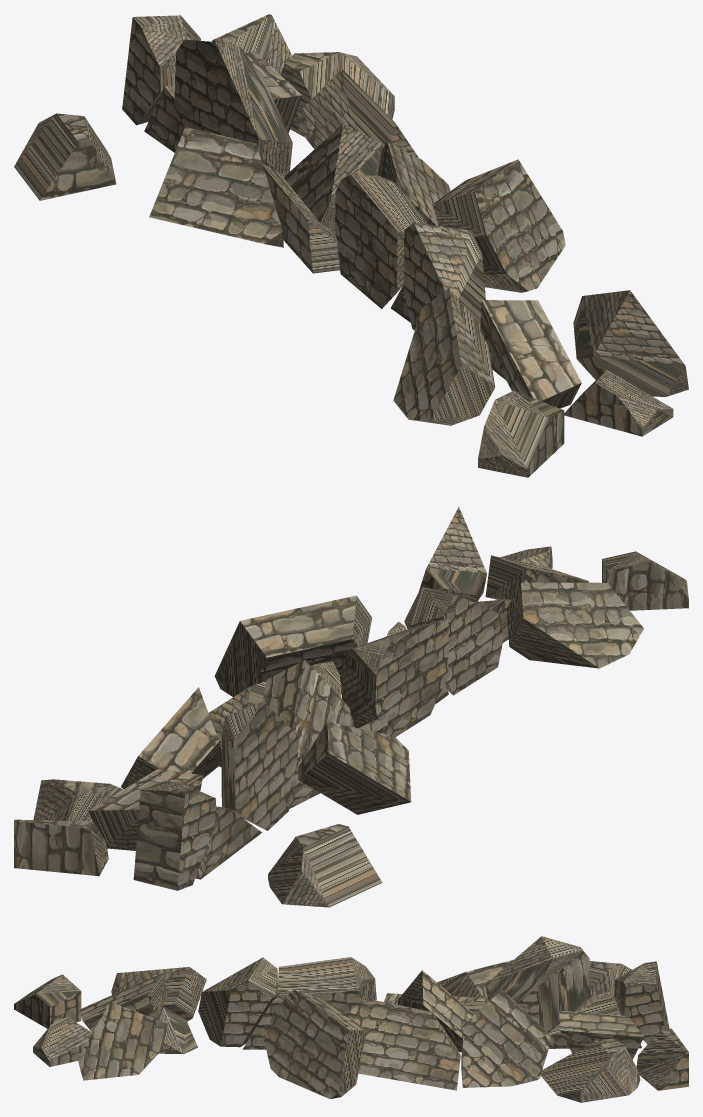
File: BreakWallLarge_000023.obj
3 views of the same model, one above another, from view 1: azimuth 30°, elevation 25°; view 2: azimuth 150°, elevation 25°; view 3: azimuth 270°, elevation 25° (orthographic). The views are drawn at different scales.
Visible parts, largest first — view 1: Cube.057_cell.017_Cube.057_cell.016, Cube.057_cell.018_Cube.057_cell.017, Cube.057_cell.021_Cube.057_cell.020, Cube.057_cell.014_Cube.057_cell.013, Cube.057_cell.013_Cube.057_cell.012, Cube.057_cell.007_Cube.057_cell.006, Cube.057_cell.011_Cube.057_cell.010, Cube.057_cell.010_Cube.057_cell.009, Cube.057_cell.001_Cube.057_cell.000, Cube.057_cell.015_Cube.057_cell.014, Cube.057_cell.003_Cube.057_cell.002, Cube.057_cell_Cube.057_cell.022 (+8 smaller); view 2: Cube.057_cell.021_Cube.057_cell.020, Cube.057_cell.013_Cube.057_cell.012, Cube.057_cell.018_Cube.057_cell.017, Cube.057_cell.014_Cube.057_cell.013, Cube.057_cell.017_Cube.057_cell.016, Cube.057_cell.003_Cube.057_cell.002, Cube.057_cell.001_Cube.057_cell.000, Cube.057_cell.010_Cube.057_cell.009, Cube.057_cell.019_Cube.057_cell.018, Cube.057_cell.020_Cube.057_cell.019, Cube.057_cell_Cube.057_cell.022, Cube.057_cell.015_Cube.057_cell.014 (+8 smaller); view 3: Cube.057_cell.018_Cube.057_cell.017, Cube.057_cell.004_Cube.057_cell.003, Cube.057_cell.020_Cube.057_cell.019, Cube.057_cell.014_Cube.057_cell.013, Cube.057_cell.007_Cube.057_cell.006, Cube.057_cell.010_Cube.057_cell.009, Cube.057_cell.012_Cube.057_cell.011, Cube.057_cell.013_Cube.057_cell.012, Cube.057_cell.003_Cube.057_cell.002, Cube.057_cell.016_Cube.057_cell.015, Cube.057_cell.019_Cube.057_cell.018, Cube.057_cell_Cube.057_cell.022 (+10 smaller).
Boxes of the visible parts, box(x1,y1,x2,y2) form: Cube.057_cell.017_Cube.057_cell.016: box(149, 127, 283, 247); Cube.057_cell.018_Cube.057_cell.017: box(432, 159, 565, 292); Cube.057_cell.021_Cube.057_cell.020: box(393, 288, 495, 425); Cube.057_cell.014_Cube.057_cell.013: box(174, 39, 292, 175); Cube.057_cell.013_Cube.057_cell.012: box(334, 174, 428, 308); Cube.057_cell.007_Cube.057_cell.006: box(573, 290, 688, 396); Cube.057_cell.011_Cube.057_cell.010: box(480, 300, 581, 408); Cube.057_cell.010_Cube.057_cell.009: box(404, 222, 485, 330); Cube.057_cell.001_Cube.057_cell.000: box(14, 113, 116, 200); Cube.057_cell.015_Cube.057_cell.014: box(478, 390, 564, 477); Cube.057_cell.003_Cube.057_cell.002: box(122, 15, 200, 125); Cube.057_cell_Cube.057_cell.022: box(284, 124, 382, 232); Cube.057_cell.021_Cube.057_cell.020: box(506, 582, 643, 668); Cube.057_cell.013_Cube.057_cell.012: box(342, 618, 448, 736); Cube.057_cell.018_Cube.057_cell.017: box(214, 595, 371, 696); Cube.057_cell.014_Cube.057_cell.013: box(221, 701, 298, 830); Cube.057_cell.017_Cube.057_cell.016: box(298, 721, 411, 814); Cube.057_cell.003_Cube.057_cell.002: box(133, 781, 216, 890); Cube.057_cell.001_Cube.057_cell.000: box(268, 824, 382, 907); Cube.057_cell.010_Cube.057_cell.009: box(404, 586, 503, 695); Cube.057_cell.019_Cube.057_cell.018: box(14, 819, 108, 876); Cube.057_cell.020_Cube.057_cell.019: box(121, 687, 221, 788); Cube.057_cell_Cube.057_cell.022: box(262, 659, 354, 756); Cube.057_cell.015_Cube.057_cell.014: box(602, 551, 688, 610); Cube.057_cell.018_Cube.057_cell.017: box(264, 989, 366, 1098); Cube.057_cell.004_Cube.057_cell.003: box(349, 1000, 460, 1090); Cube.057_cell.020_Cube.057_cell.019: box(461, 989, 551, 1087); Cube.057_cell.014_Cube.057_cell.013: box(485, 936, 590, 1031); Cube.057_cell.007_Cube.057_cell.006: box(77, 1002, 167, 1080); Cube.057_cell.010_Cube.057_cell.009: box(198, 957, 277, 1047); Cube.057_cell.012_Cube.057_cell.011: box(540, 1039, 640, 1102); Cube.057_cell.013_Cube.057_cell.012: box(277, 957, 376, 1016); Cube.057_cell.003_Cube.057_cell.002: box(614, 961, 669, 1044); Cube.057_cell.016_Cube.057_cell.015: box(559, 1010, 643, 1059); Cube.057_cell.019_Cube.057_cell.018: box(636, 1028, 688, 1090); Cube.057_cell_Cube.057_cell.022: box(397, 970, 474, 1052).
Size of the model in its own units: 29.89 by 11.1 by 70.33.
Materials: 2 (2 with a texture image).
